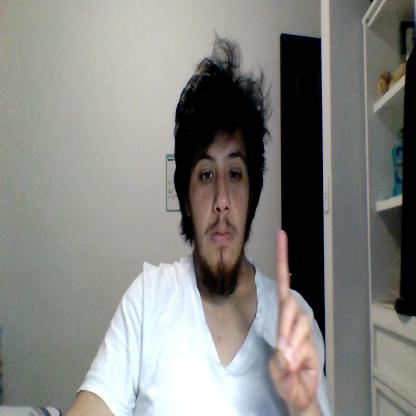D: (268, 230, 319, 411)
